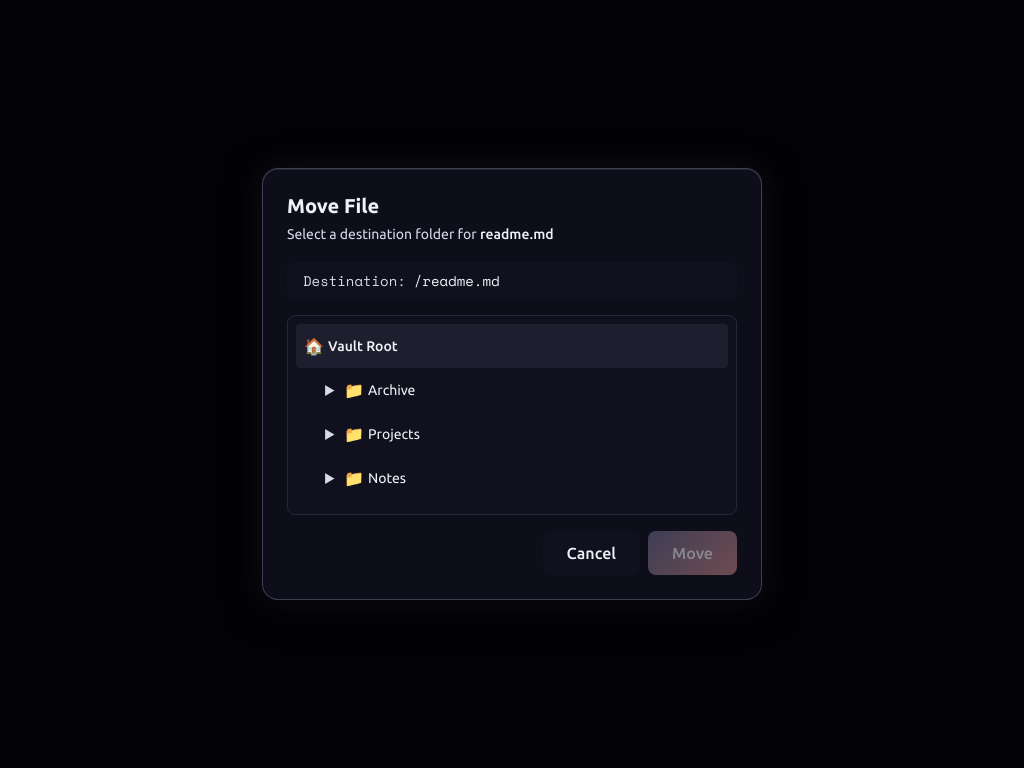
MoveDialog › directory selection › disables Move when returning to original location
// Select Archive
Step 1. Click the text "Archive" → (392, 390), box [368,382,415,398]
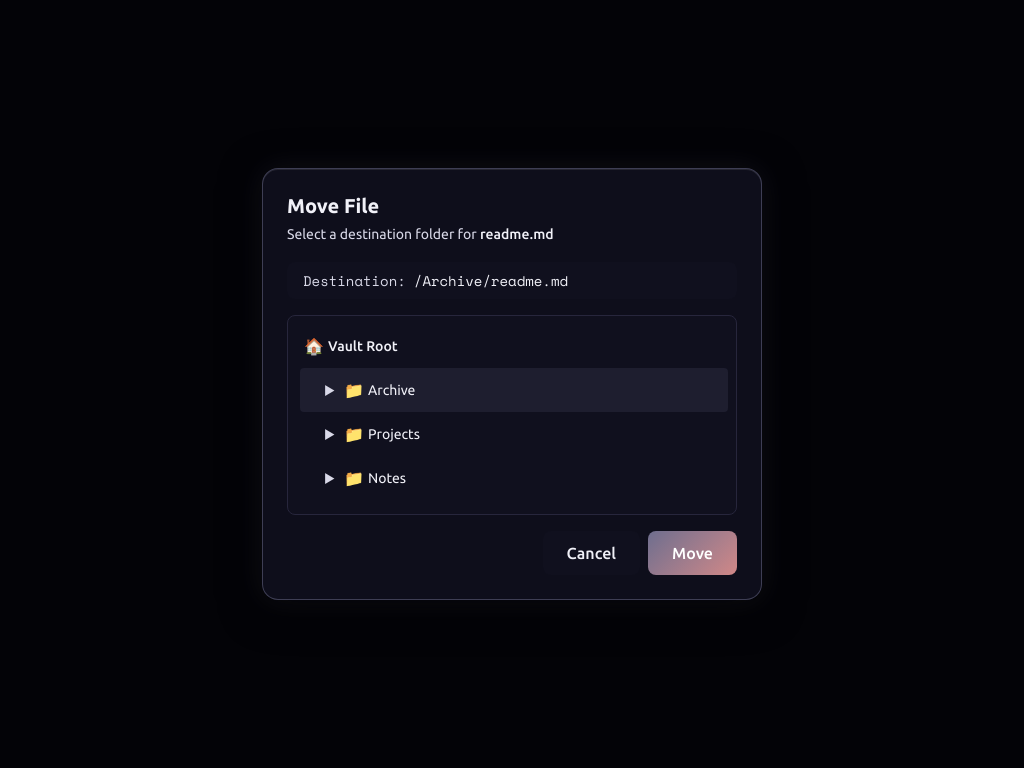
Expected: the button "Move" is enabled, [648,531,737,575]
// Go back to Vault Root (original location)
Step 2. Click the text "Vault Root" → (363, 346), box [328,338,398,354]
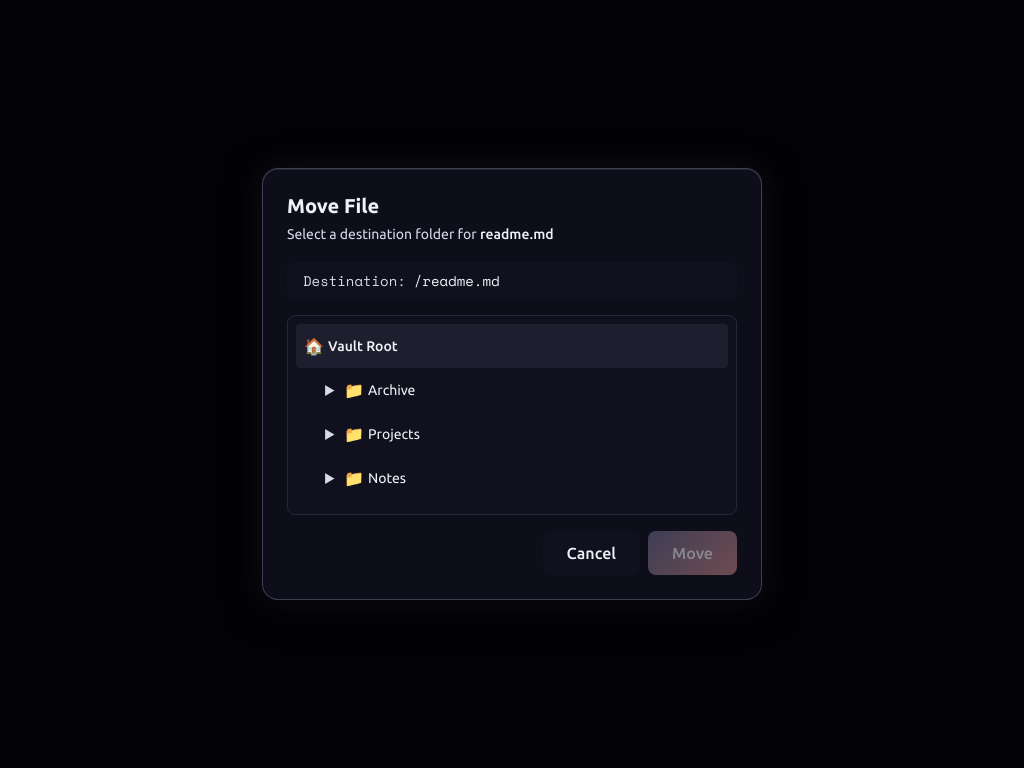
Expected: the button "Move" is disabled, [648,531,737,575]
